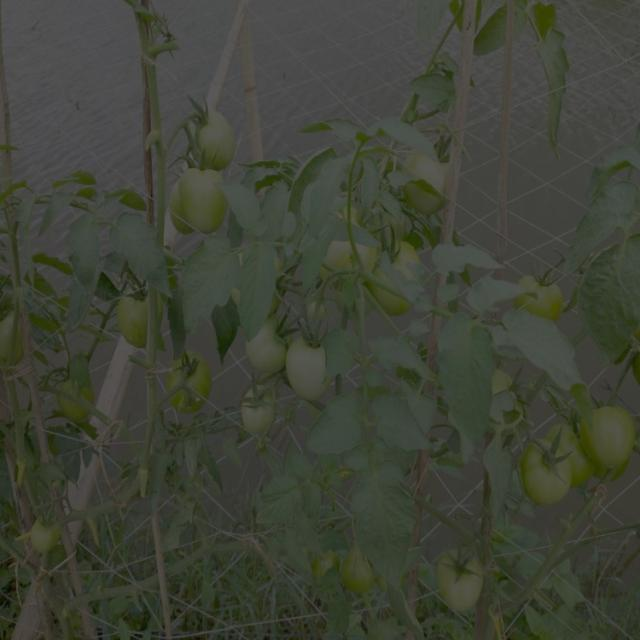tomato: (576, 393, 633, 477), (521, 440, 574, 508), (435, 549, 488, 610), (180, 165, 229, 230), (547, 421, 597, 482), (199, 104, 243, 171), (168, 362, 218, 418), (286, 331, 327, 398), (518, 271, 569, 318), (247, 326, 290, 374), (240, 386, 281, 435), (383, 234, 423, 281), (329, 237, 376, 274), (122, 289, 152, 345), (368, 272, 403, 320), (54, 381, 93, 424), (400, 184, 443, 216), (341, 553, 370, 590), (32, 526, 67, 554)
